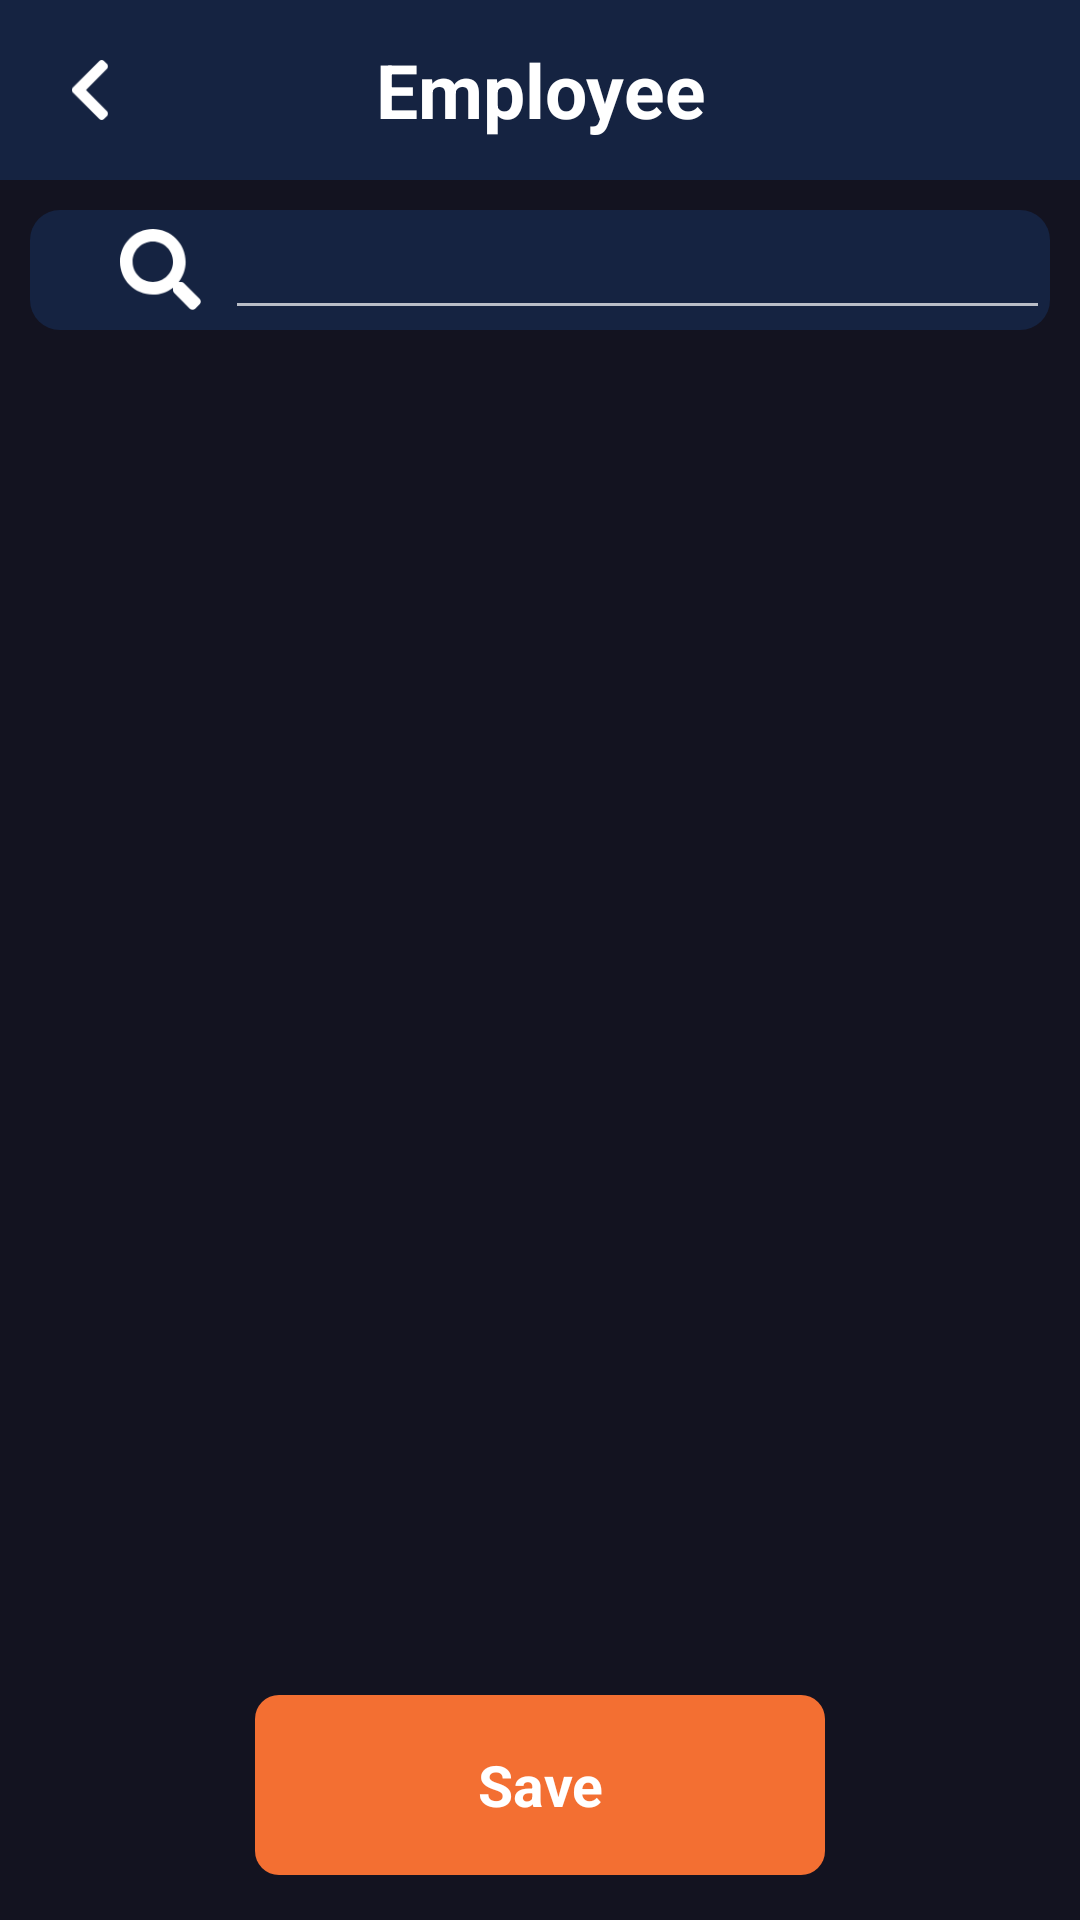

Icons on this 1080w x 1920h Android screen, each with the point to tap as point (x, y):
back: point (90, 90)
search: point (160, 269)
